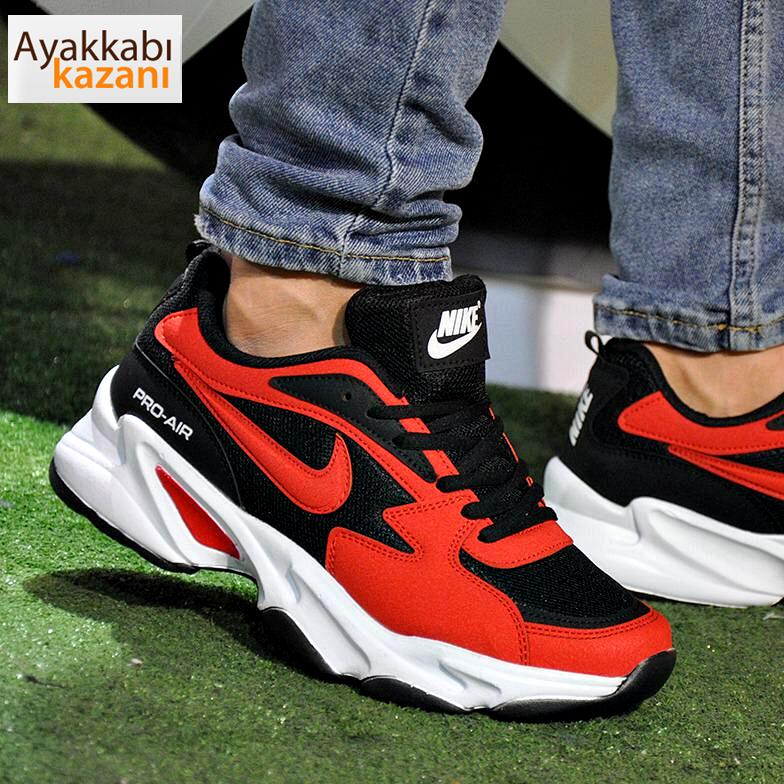nike: (177, 371, 357, 520)
